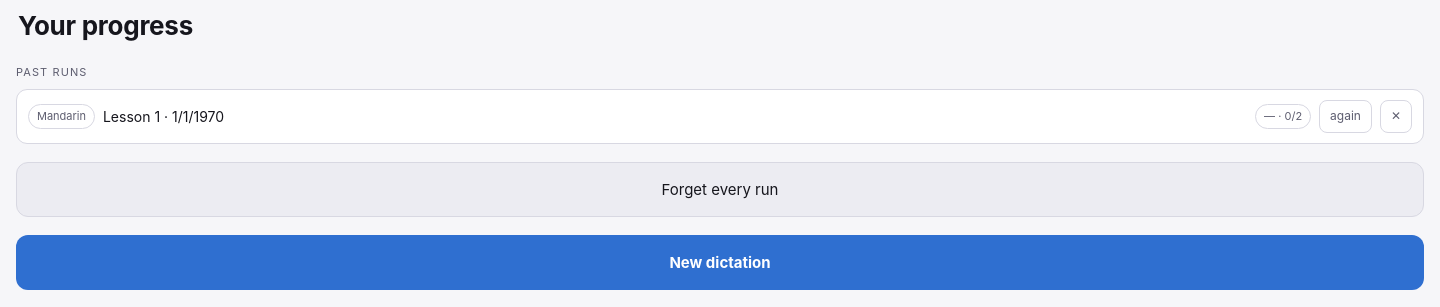
it: History › forgets a single Run
Click the button named "Forget the run of Lesson 1" at [1396, 117], box [1380,100,1412,133]
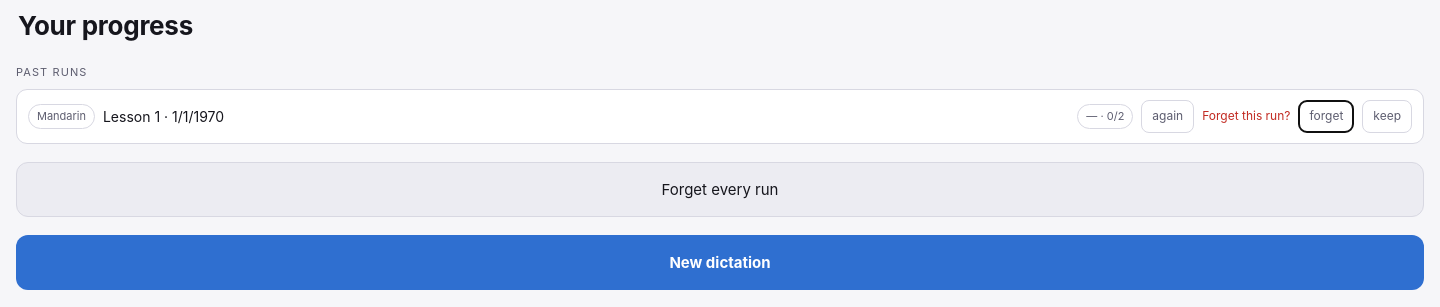
Click the button "forget" at [1326, 117], box [1298,100,1354,133]
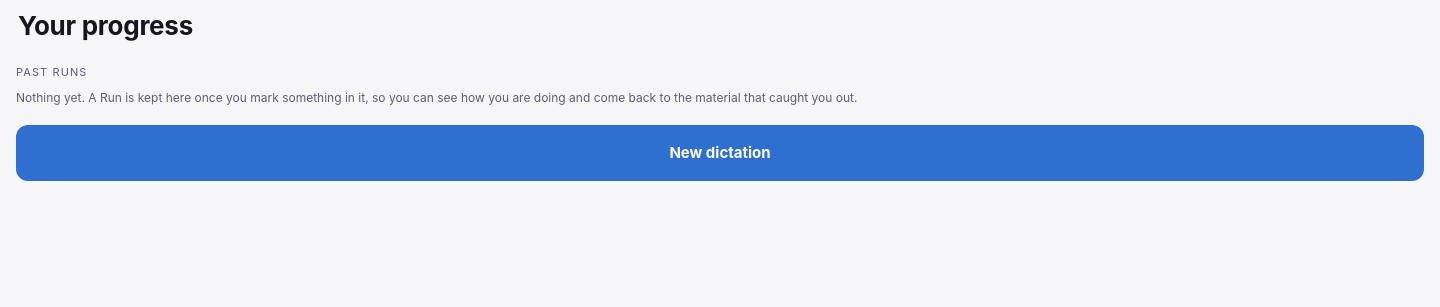
Expected: the text "Nothing yet" is shown, [16,90,858,105]
